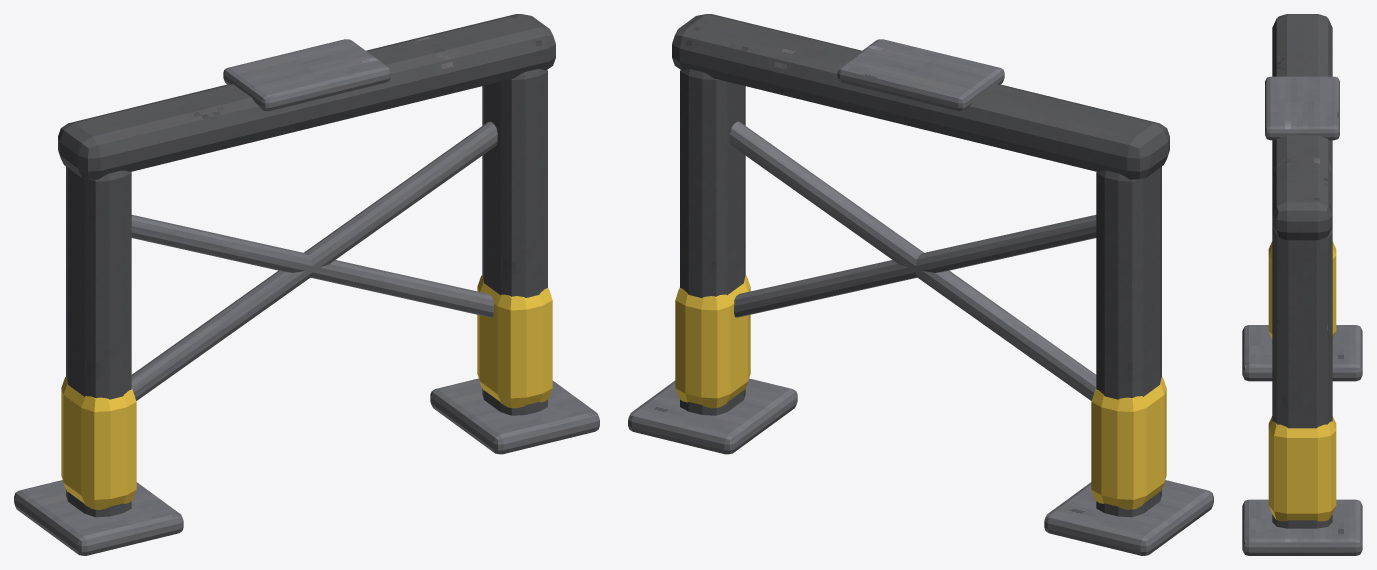
The model's file is decor_cargo_belt_trestle.glb.
3 renders of one model, left to right at view 1: azimuth 30°, elevation 25°; view 2: azimuth 150°, elevation 25°; view 3: azimuth 270°, elevation 25°, orthographic. The views are drawn at different scales.
Parts seen in each view (by area): view 1: DEC_CargoBeltTrestle__Crossbeam, DEC_CargoBeltTrestle__Leg_L, DEC_CargoBeltTrestle__Leg_R, DEC_CargoBeltTrestle__Brace_B, DEC_CargoBeltTrestle__Brace_A, DEC_CargoBeltTrestle__Leg_Hazard_L, DEC_CargoBeltTrestle__Leg_Hazard_R, DEC_CargoBeltTrestle__Head_Plate, DEC_CargoBeltTrestle__Foot_R, DEC_CargoBeltTrestle__Foot_L; view 2: DEC_CargoBeltTrestle__Crossbeam, DEC_CargoBeltTrestle__Leg_L, DEC_CargoBeltTrestle__Leg_R, DEC_CargoBeltTrestle__Brace_B, DEC_CargoBeltTrestle__Brace_A, DEC_CargoBeltTrestle__Leg_Hazard_L, DEC_CargoBeltTrestle__Leg_Hazard_R, DEC_CargoBeltTrestle__Head_Plate, DEC_CargoBeltTrestle__Foot_R, DEC_CargoBeltTrestle__Foot_L; view 3: DEC_CargoBeltTrestle__Leg_R, DEC_CargoBeltTrestle__Crossbeam, DEC_CargoBeltTrestle__Leg_Hazard_R, DEC_CargoBeltTrestle__Foot_R, DEC_CargoBeltTrestle__Head_Plate, DEC_CargoBeltTrestle__Foot_L, DEC_CargoBeltTrestle__Leg_Hazard_L.
Boxes of the visible parts, x1,y1,x2,y2 form: DEC_CargoBeltTrestle__Crossbeam: (58, 14, 555, 179); DEC_CargoBeltTrestle__Leg_L: (66, 166, 131, 517); DEC_CargoBeltTrestle__Leg_R: (482, 69, 547, 415); DEC_CargoBeltTrestle__Brace_B: (131, 121, 497, 400); DEC_CargoBeltTrestle__Brace_A: (131, 215, 493, 317); DEC_CargoBeltTrestle__Leg_Hazard_L: (61, 377, 136, 509); DEC_CargoBeltTrestle__Leg_Hazard_R: (477, 275, 552, 408); DEC_CargoBeltTrestle__Head_Plate: (223, 39, 390, 111); DEC_CargoBeltTrestle__Foot_R: (430, 378, 599, 454); DEC_CargoBeltTrestle__Foot_L: (14, 480, 183, 555); DEC_CargoBeltTrestle__Crossbeam: (672, 14, 1169, 179); DEC_CargoBeltTrestle__Leg_L: (1096, 166, 1161, 517); DEC_CargoBeltTrestle__Leg_R: (680, 69, 745, 415); DEC_CargoBeltTrestle__Brace_B: (730, 121, 1096, 400); DEC_CargoBeltTrestle__Brace_A: (734, 215, 1096, 317); DEC_CargoBeltTrestle__Leg_Hazard_L: (1091, 377, 1166, 509); DEC_CargoBeltTrestle__Leg_Hazard_R: (675, 275, 750, 408); DEC_CargoBeltTrestle__Head_Plate: (837, 39, 1004, 111); DEC_CargoBeltTrestle__Foot_R: (628, 378, 797, 454); DEC_CargoBeltTrestle__Foot_L: (1044, 480, 1213, 555); DEC_CargoBeltTrestle__Leg_R: (1272, 227, 1332, 528); DEC_CargoBeltTrestle__Crossbeam: (1272, 14, 1332, 240); DEC_CargoBeltTrestle__Leg_Hazard_R: (1268, 416, 1336, 521); DEC_CargoBeltTrestle__Foot_R: (1242, 499, 1362, 555); DEC_CargoBeltTrestle__Head_Plate: (1265, 76, 1339, 140); DEC_CargoBeltTrestle__Foot_L: (1242, 325, 1362, 381); DEC_CargoBeltTrestle__Leg_Hazard_L: (1268, 241, 1336, 338).
Bounding box in the file's own units: 1.38 × 1.02 × 0.32.
3 materials, 2 textured.
